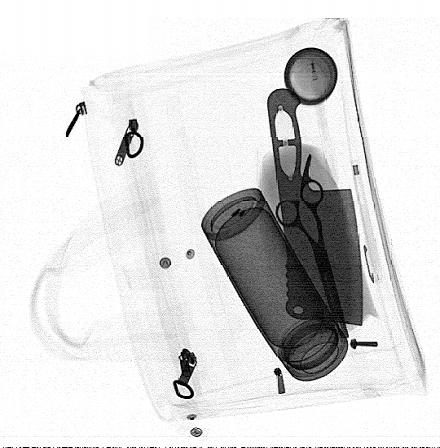Knife: (268, 87, 363, 327)
Scissors: (274, 153, 349, 339)
